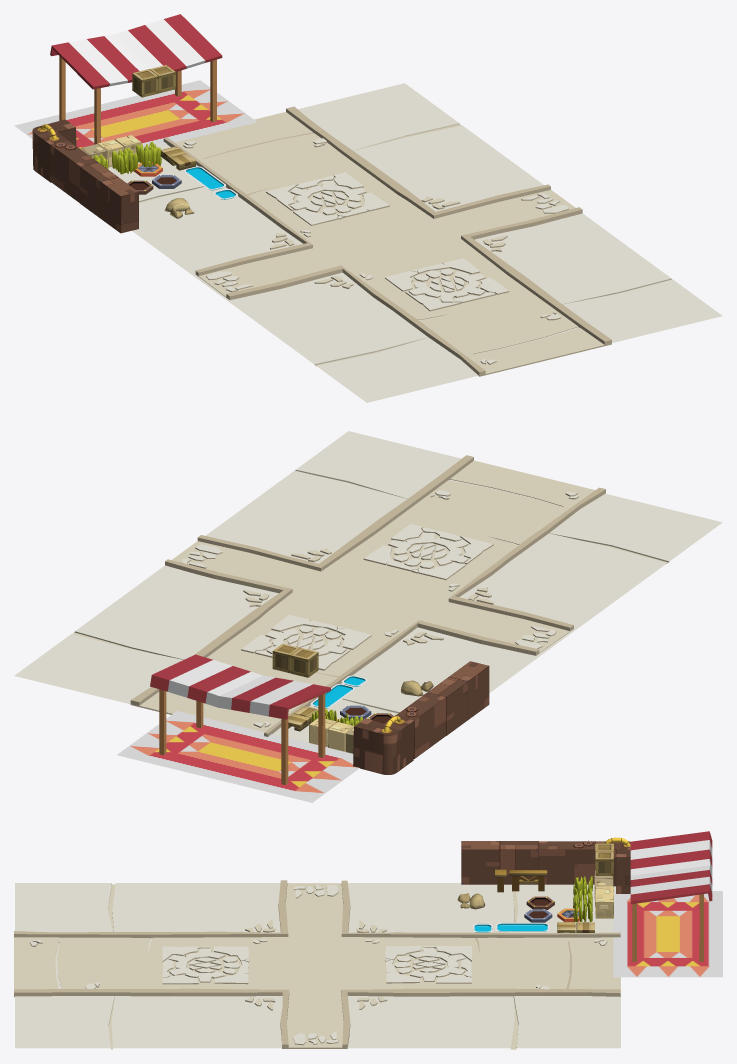
The model's file is All_assets.fbx.
3 renders of one model, top to bottom at view 1: azimuth 30°, elevation 25°; view 2: azimuth 150°, elevation 25°; view 3: azimuth 270°, elevation 25°, orthographic. The views are drawn at different scales.
Parts seen in each view (by area): view 1: Cube.009; view 2: Cube.009; view 3: Cube.009.
Part boxes in pixels (left/top/right/bottom): Cube.009: left=14, top=14, right=722, bottom=402; Cube.009: left=14, top=431, right=722, bottom=802; Cube.009: left=14, top=831, right=722, bottom=1049.
Bounding box in the file's own units: 746 × 158 × 1305.
